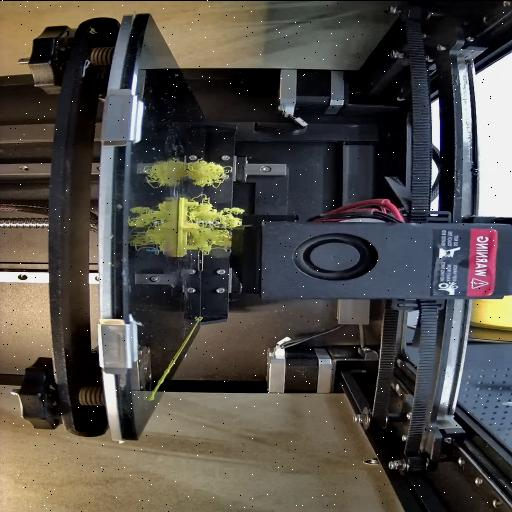spaghetti: (190, 196, 240, 254), (185, 156, 229, 188)
